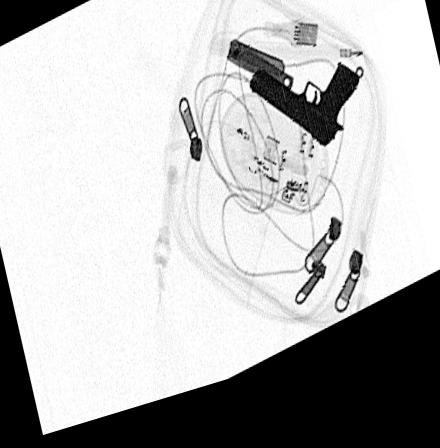Gun: (246, 81, 361, 169)
